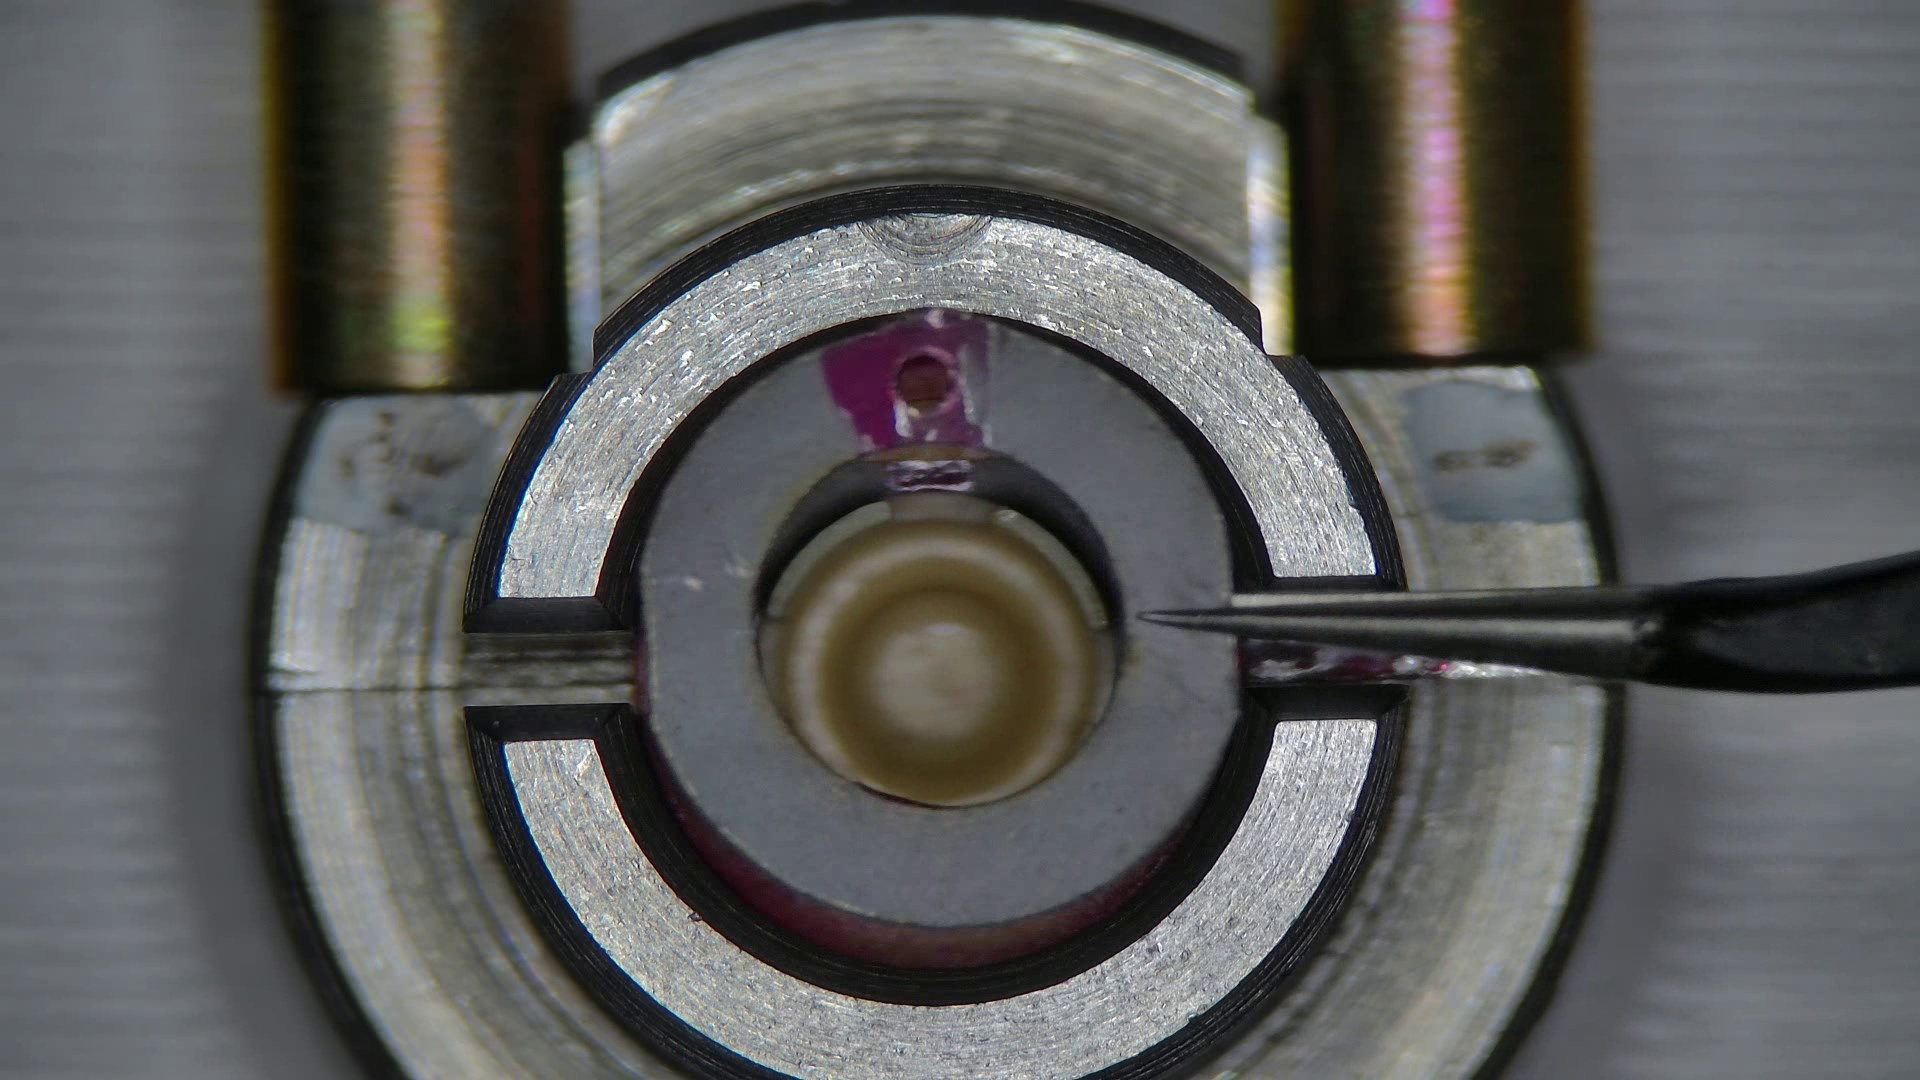YellowOring: (640, 313, 1238, 926)
